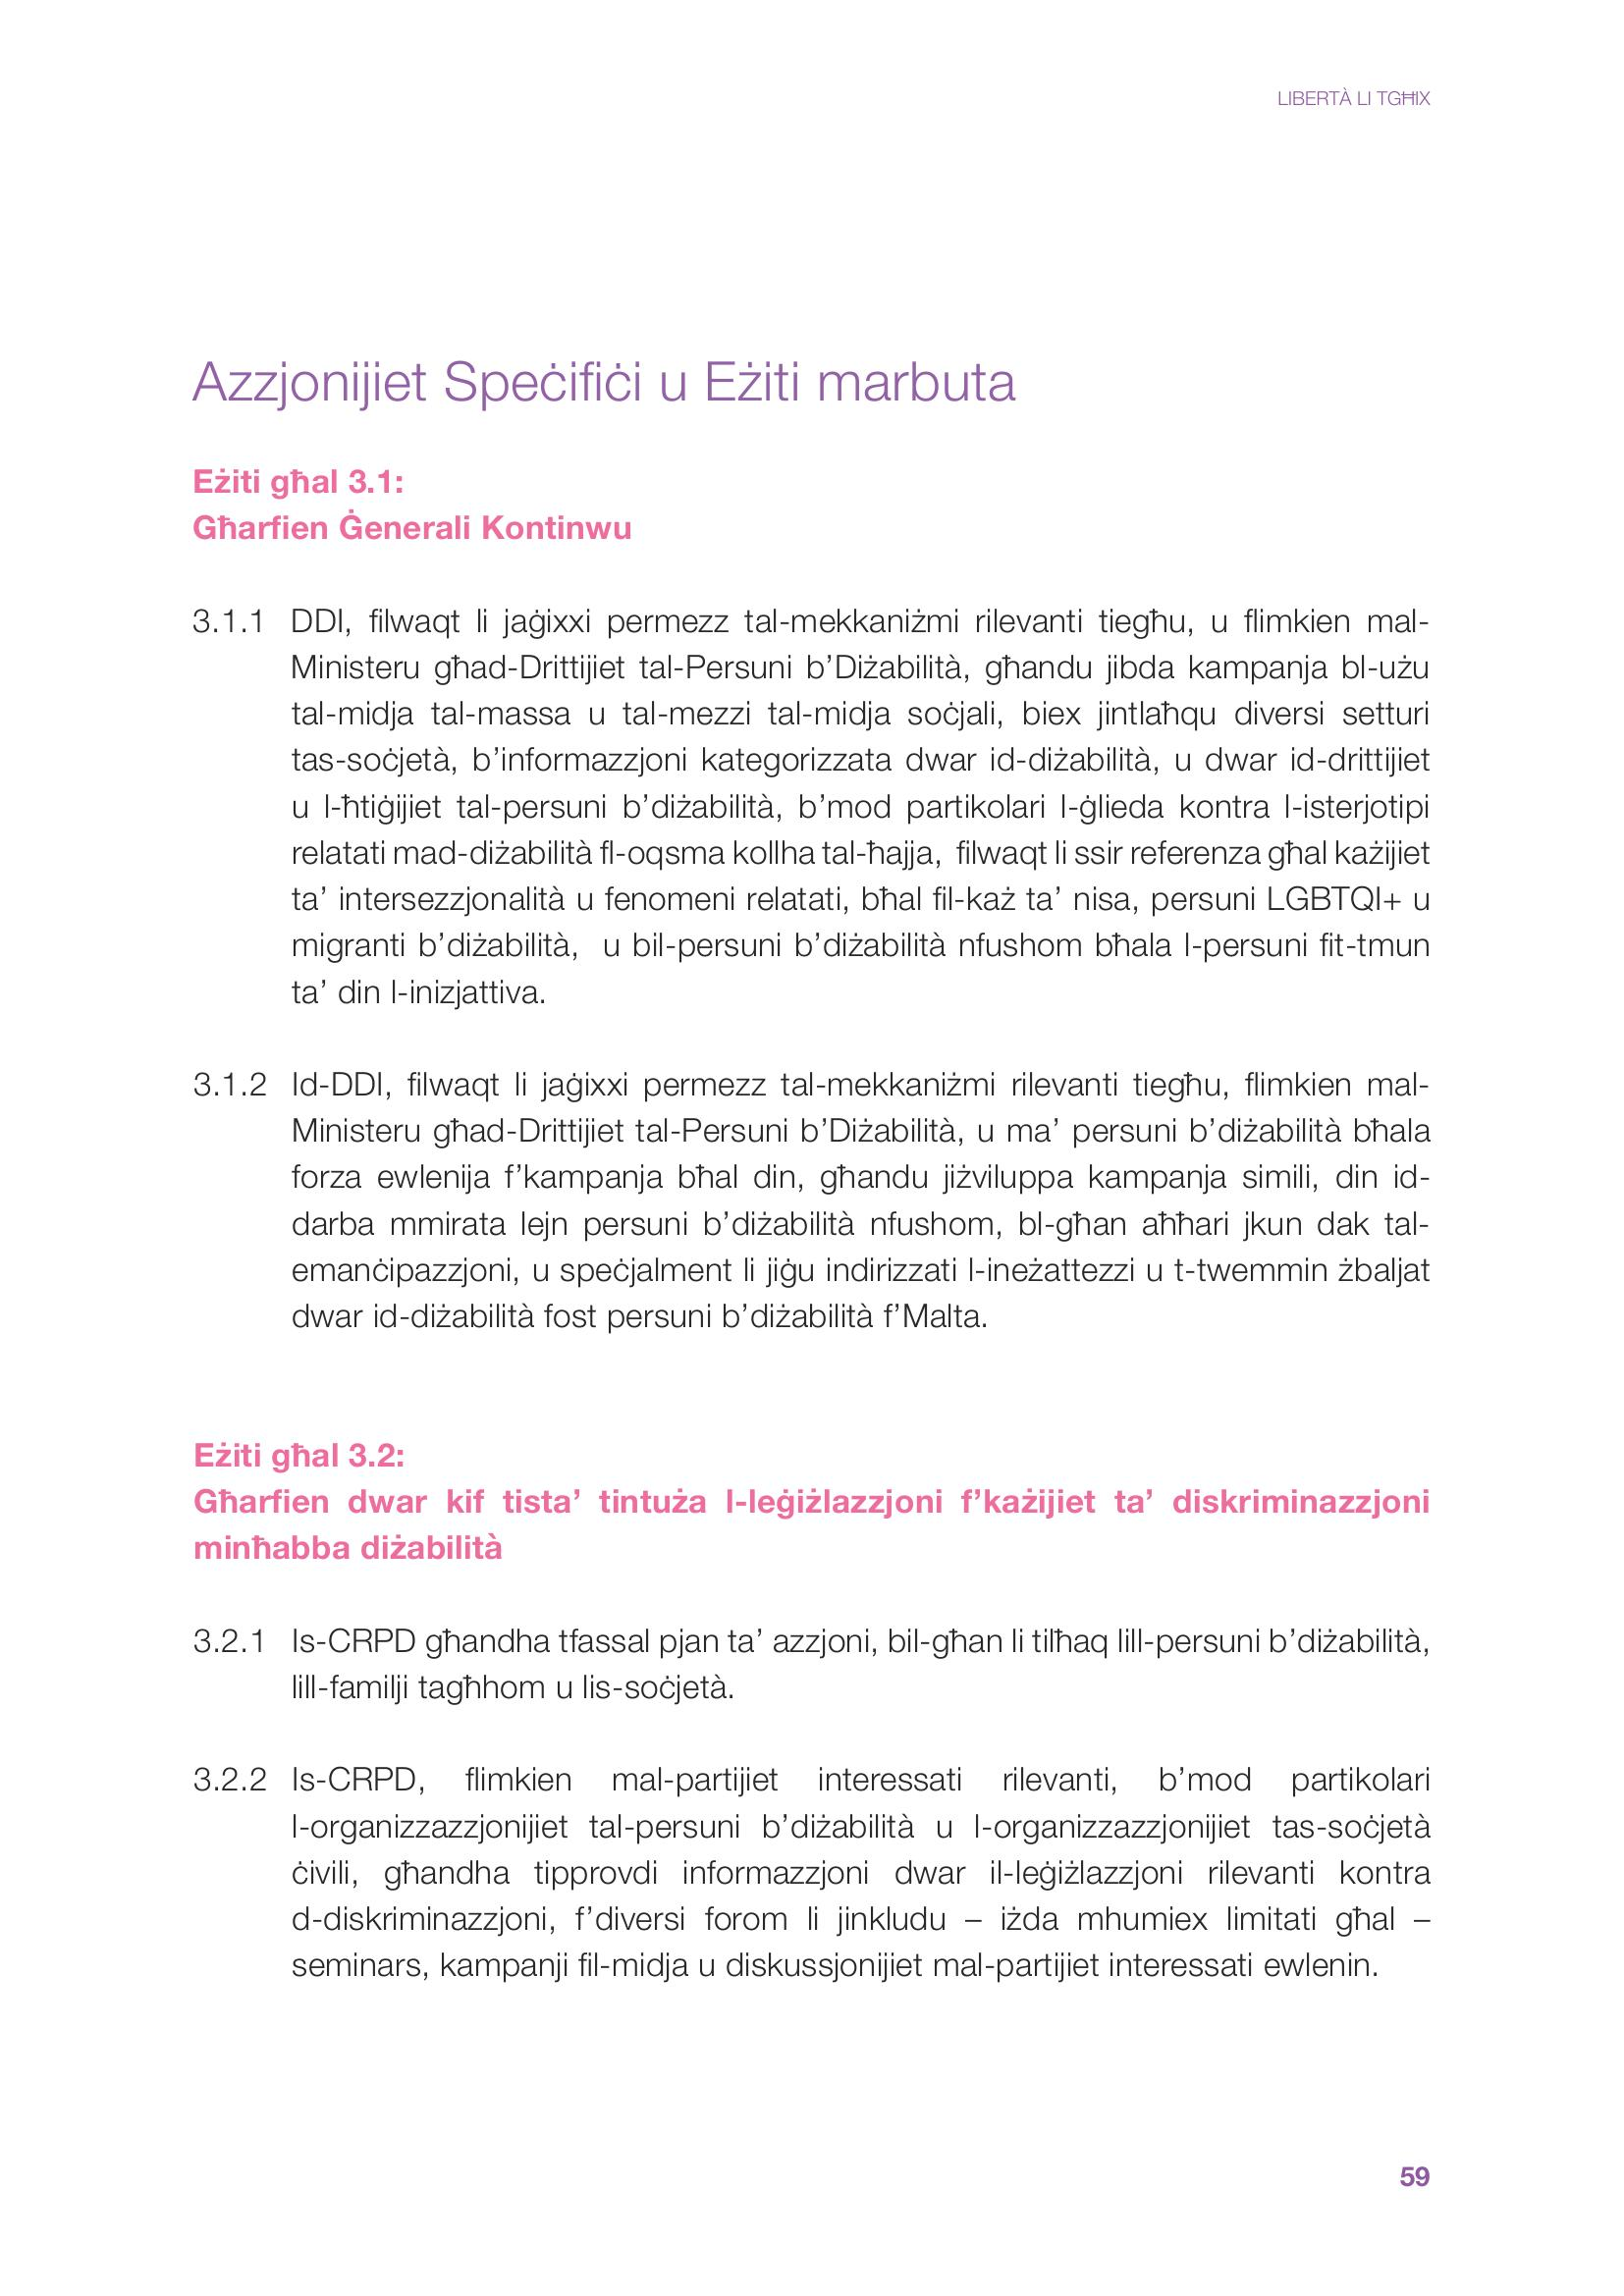text: (169, 334, 1466, 2018)
